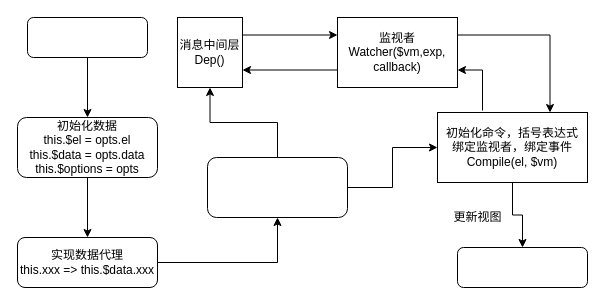
The diagram is 605 pixels wide and 305 high, and some of its shapes have lost their labels. Each missing label, with the centre of its shape:
"new MVVM" goes at (87,37).
"view" goes at (522,267).
"添加$data为订阅者 observe($data) define...." goes at (277,187).
